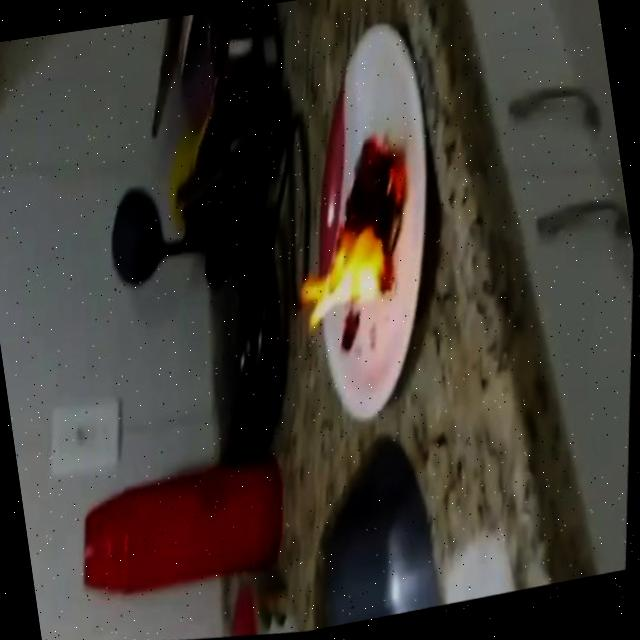fire: (264, 109, 448, 364)
